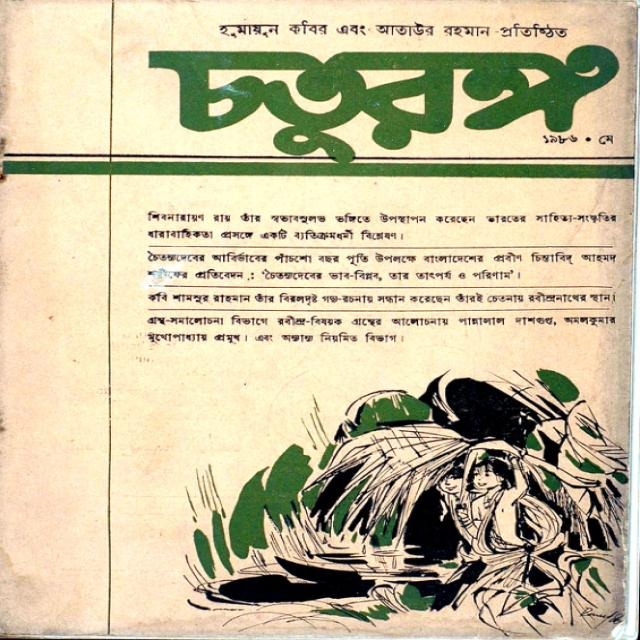image: (178, 364, 630, 640)
paragraph: (146, 205, 624, 250), (145, 245, 625, 286), (146, 312, 622, 350), (146, 285, 617, 308)
text: (215, 15, 574, 45), (532, 127, 631, 151)
title: (140, 40, 621, 168)
